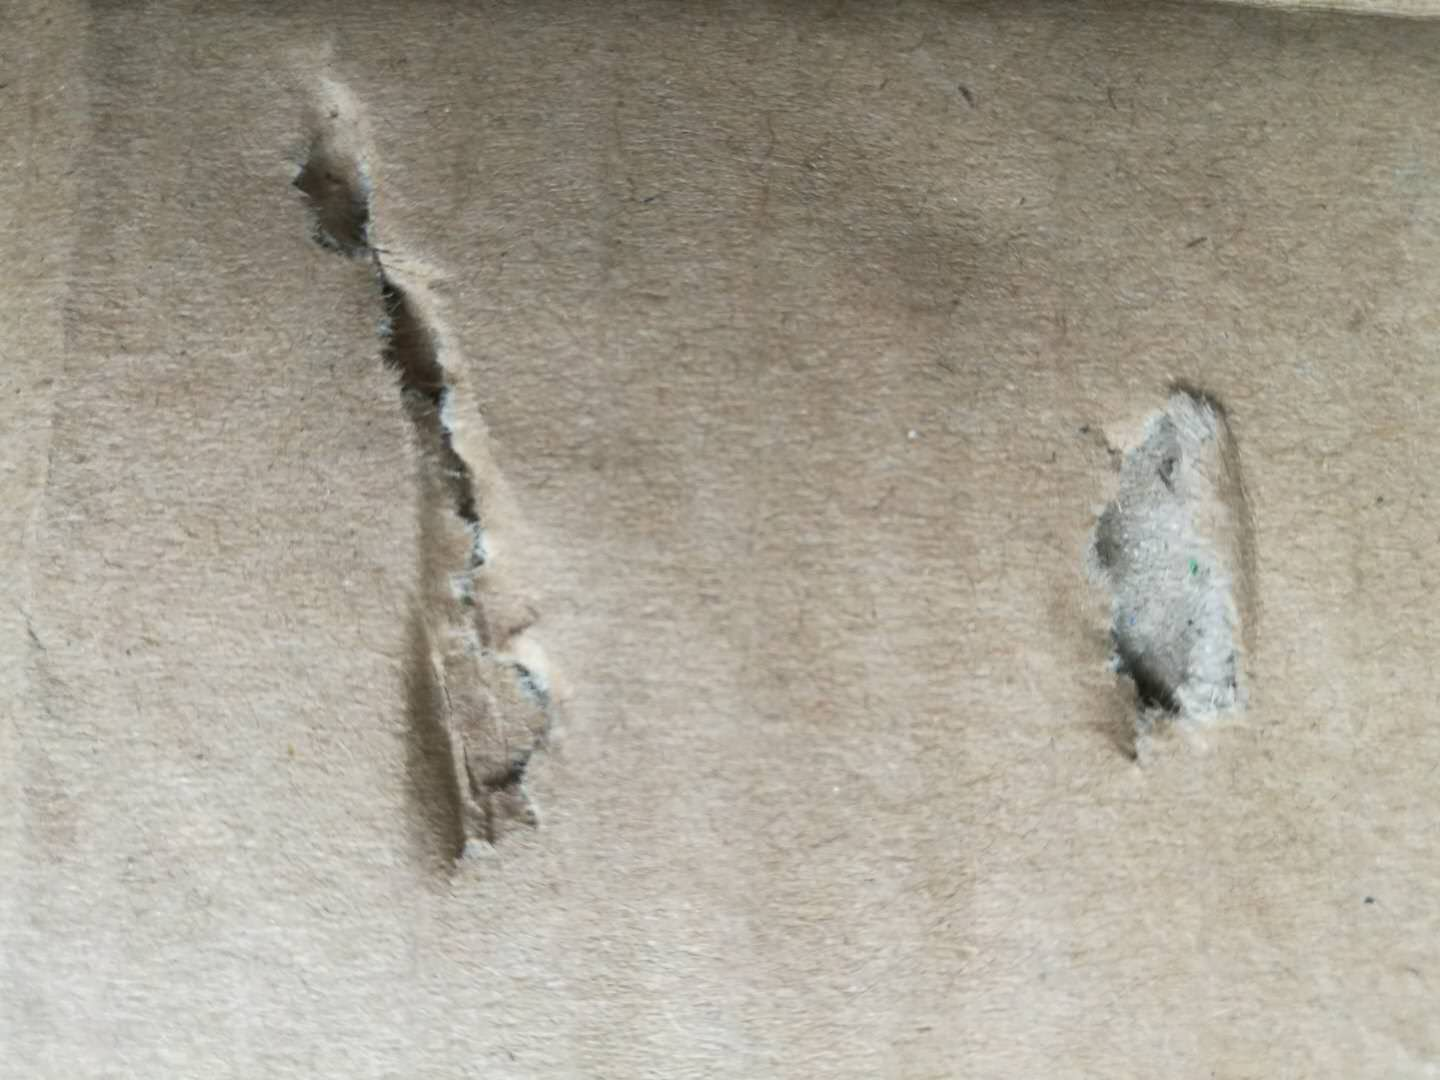defect: (242, 35, 619, 912), (1035, 343, 1308, 805)
